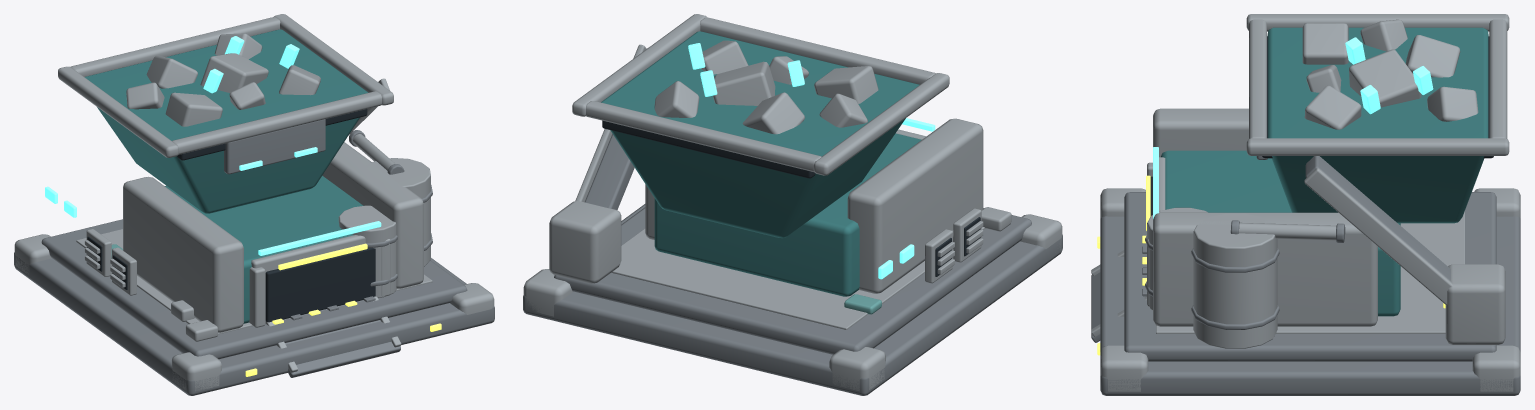
File: meridian-resource-depot.glb
The picture shows the model from 3 angles, left to right: view 1: azimuth 30°, elevation 25°; view 2: azimuth 150°, elevation 25°; view 3: azimuth 270°, elevation 25°; orthographic projection. The views are drawn at different scales.
Visible parts, largest first — view 1: ResourceDepotBodyMesh; view 2: ResourceDepotBodyMesh; view 3: ResourceDepotBodyMesh.
Boxes of the visible parts, x1,y1,x2,y2 form: ResourceDepotBodyMesh: (14,14,494,395); ResourceDepotBodyMesh: (523,14,1062,395); ResourceDepotBodyMesh: (1091,14,1520,395).
Size of the model in its own units: 2.8 by 1.92 by 2.86.
